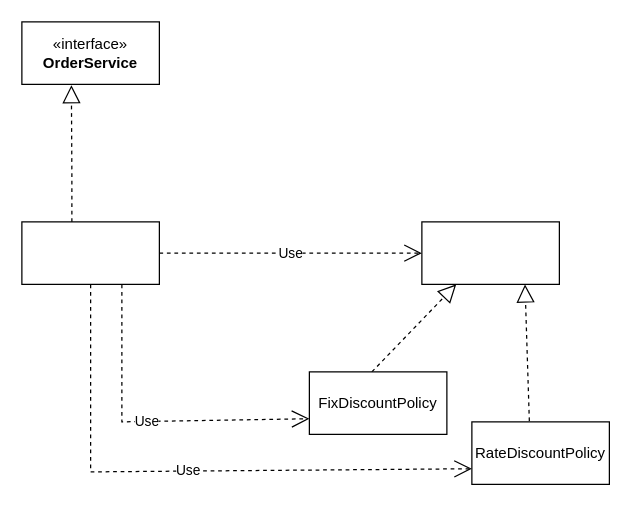
The diagram is 631 pixels wide and 511 high, and some of its shapes have lost their labels. The centre of each missing label's shape, as x and y in pixels:
"OrderServiceImpl" goes at (x=90, y=252).
"«interface» DiscountPolicy" goes at (x=490, y=252).
